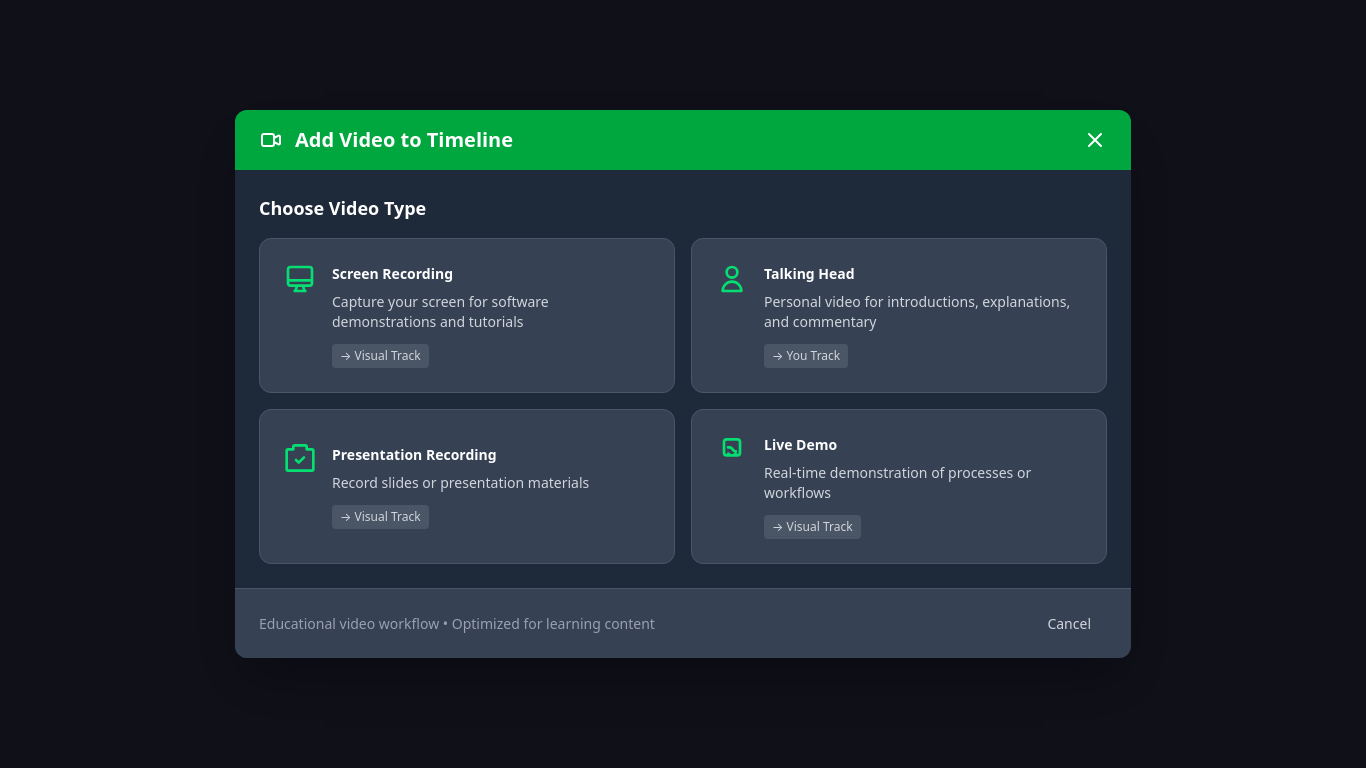
Test case: Content Addition Workflows › VideoWorkflow › shows video configuration when type is selected
The image size is (1366, 768).
What coordinates should you click on to do the following:
click the heading "Screen Recording"
I would click on:
 (392, 274)
Its box is [332, 264, 453, 283].
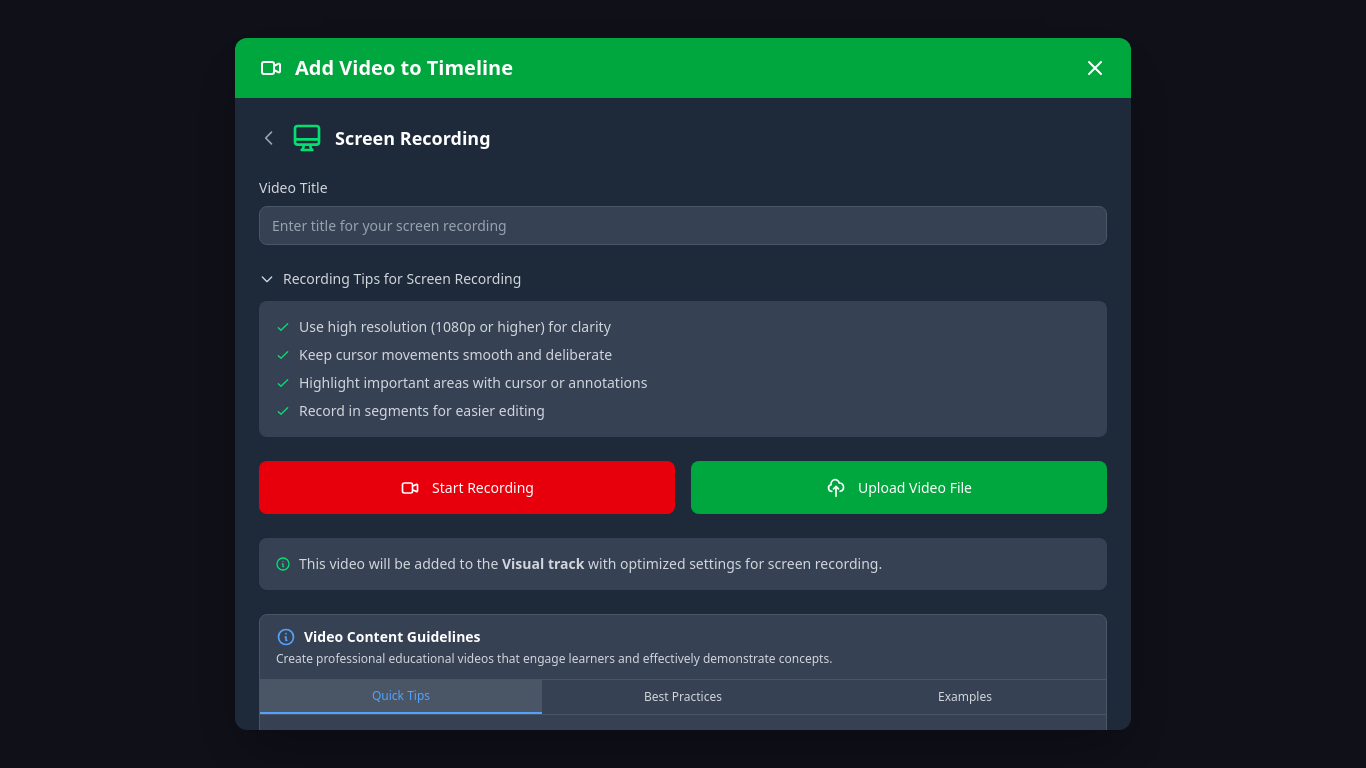
Check: the text "Video Title" is shown, box [259, 178, 328, 197]
Check: the text "Recording Tips for Screen Recording" is shown, box [283, 269, 521, 289]
